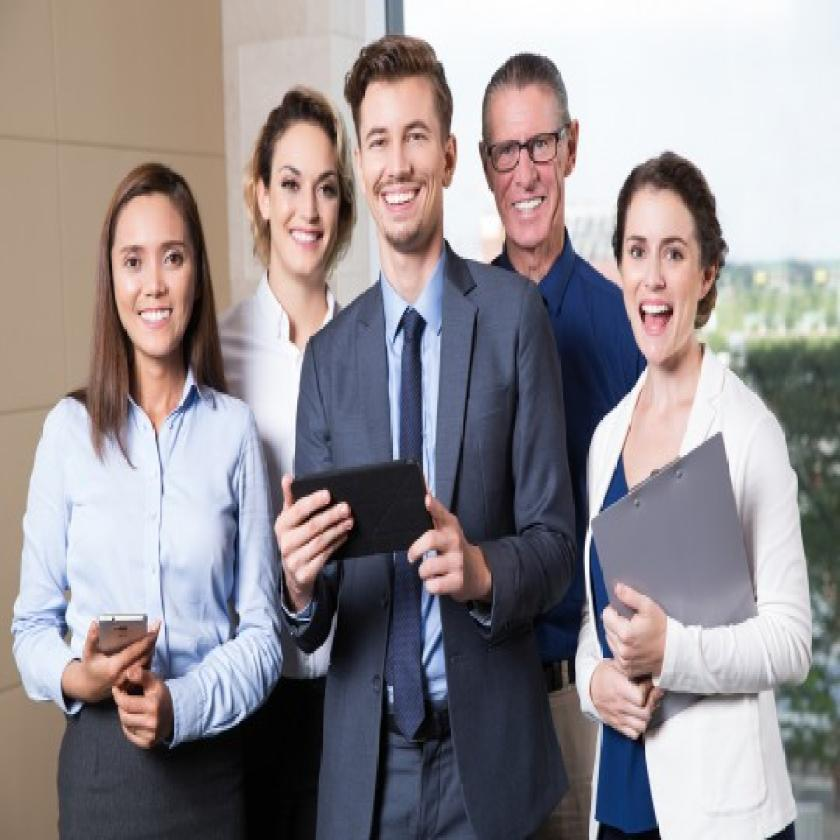Sin_casco: (607, 149, 746, 387), (87, 140, 218, 372), (351, 27, 463, 257), (244, 58, 352, 296), (475, 40, 582, 272)
